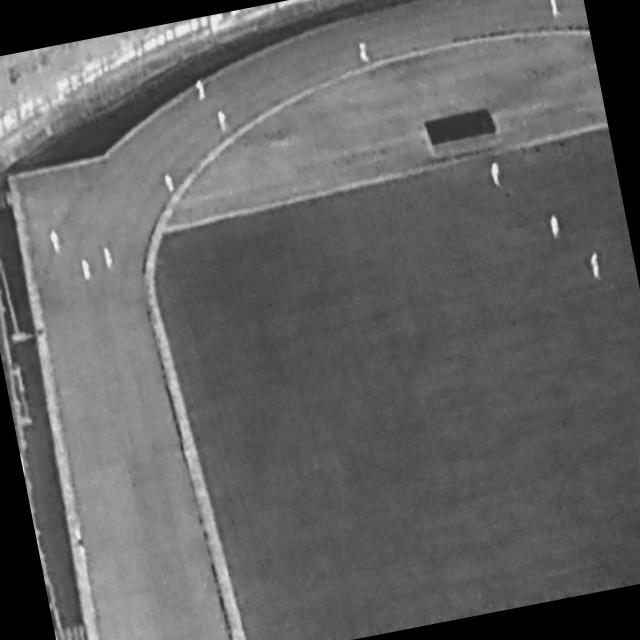person: (589, 251, 605, 282), (75, 530, 90, 561), (80, 257, 95, 283), (50, 231, 65, 257), (489, 162, 504, 188), (358, 41, 372, 65), (216, 110, 229, 134), (103, 246, 115, 271), (550, 215, 562, 239), (164, 174, 177, 195), (196, 81, 208, 103), (549, 1, 561, 18)
